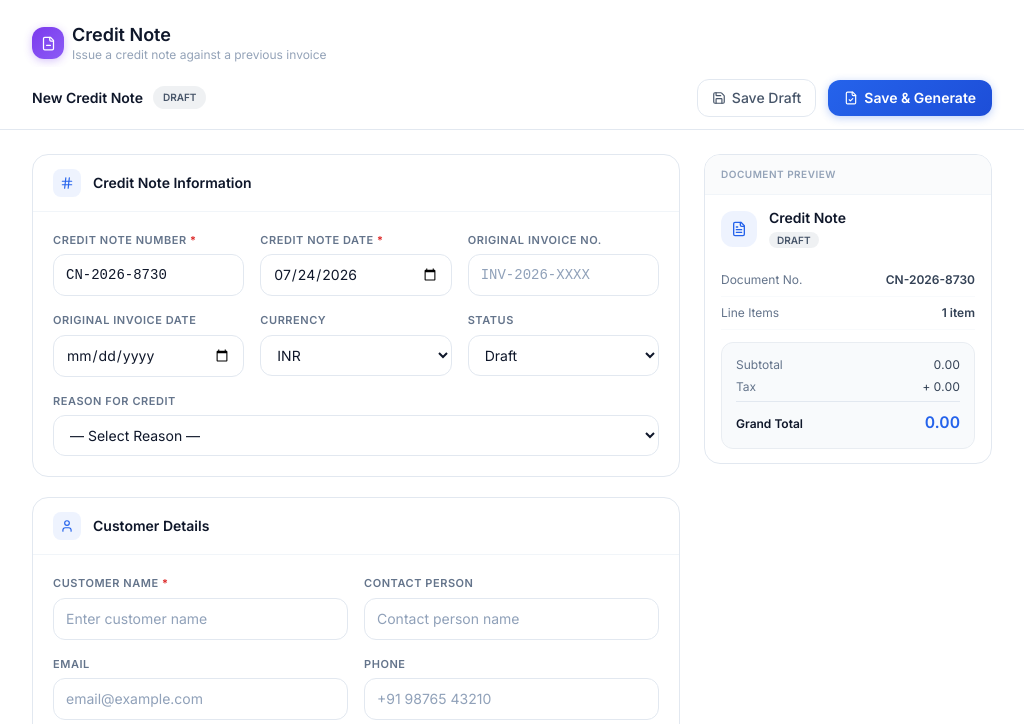
Test: CreditNotePage › shows validation errors for required fields on submit
The width and height of the screenshot is (1024, 724).
Clear the field named "cnNumber" at (149, 275), box [53,254,244,296]
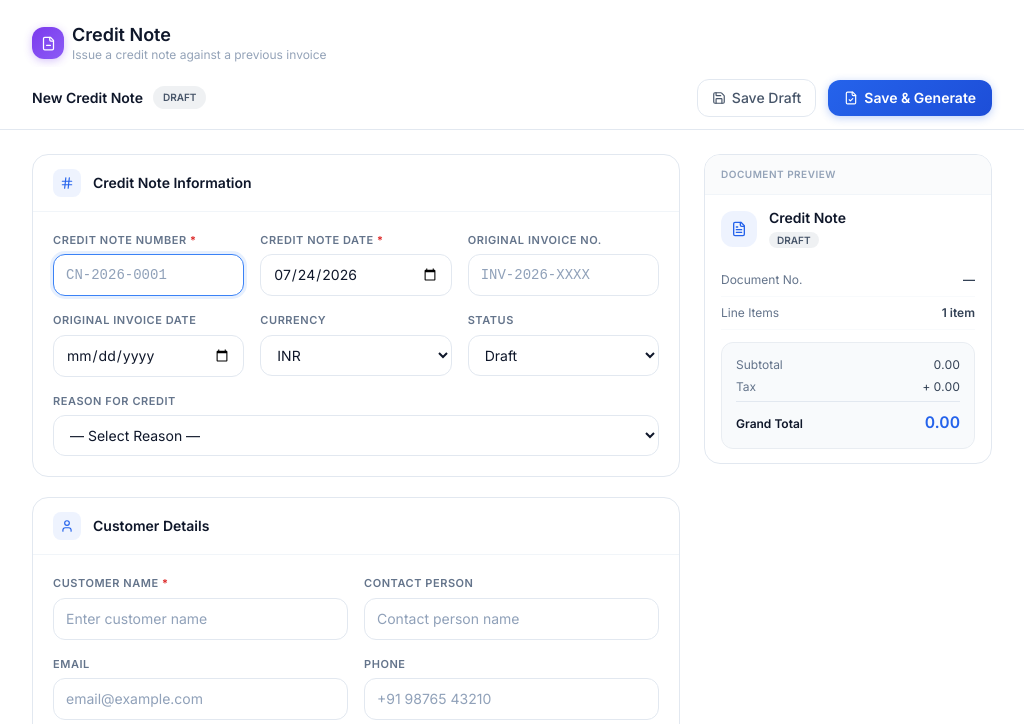
Click the button "Save & Generate" at (910, 98), box [828,80,992,116]
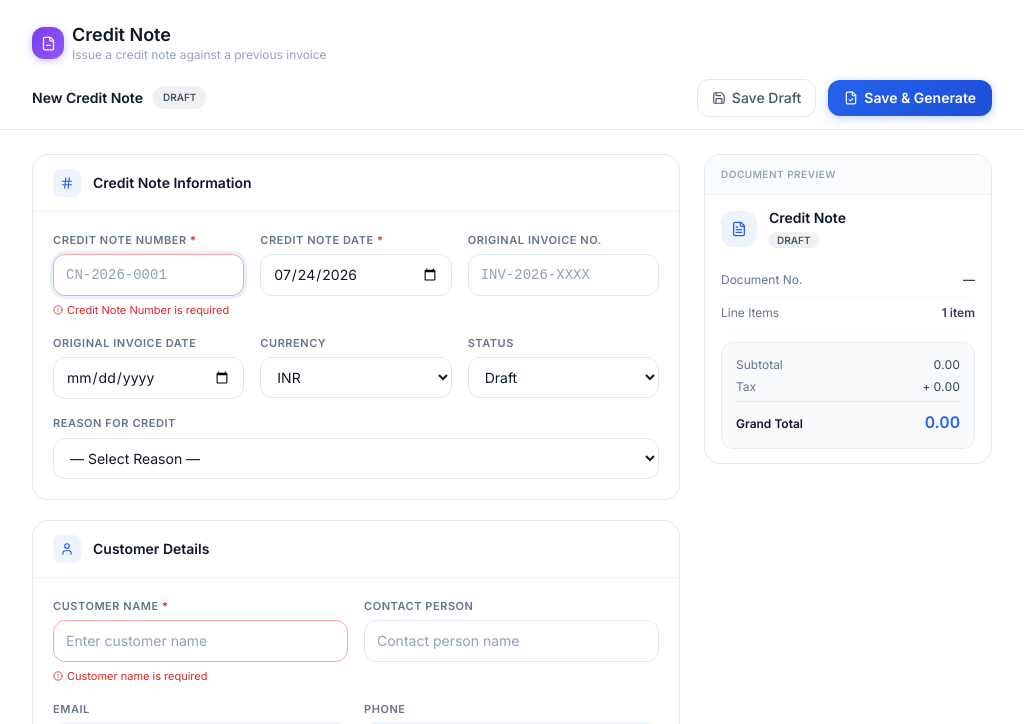
Expected: the text "Credit Note Number is required" is shown, [53,302,244,318]
Expected: the text "Customer name is required" is shown, [53,669,208,683]
